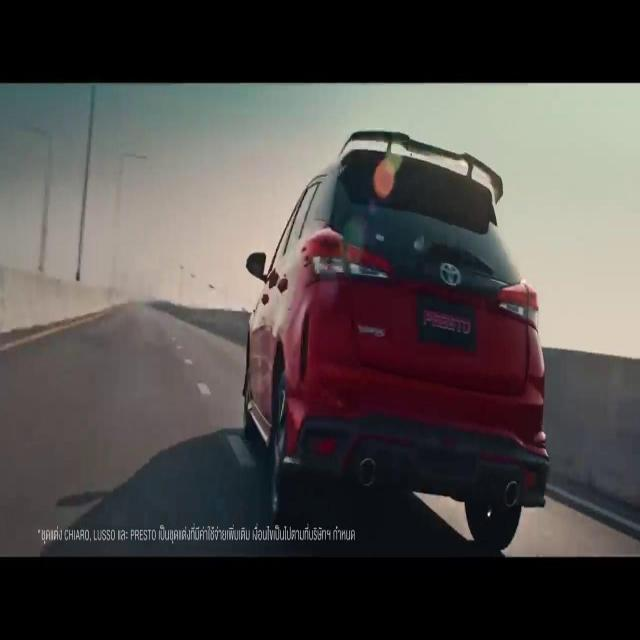Hatchback: (244, 132, 549, 548)
